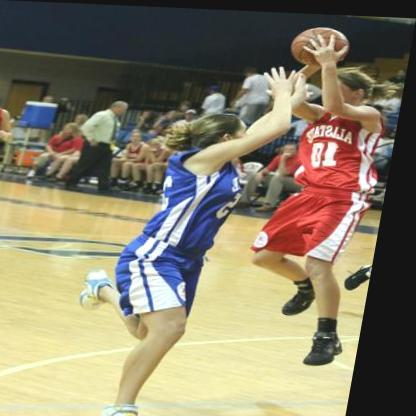basketball: (290, 22, 353, 63)
